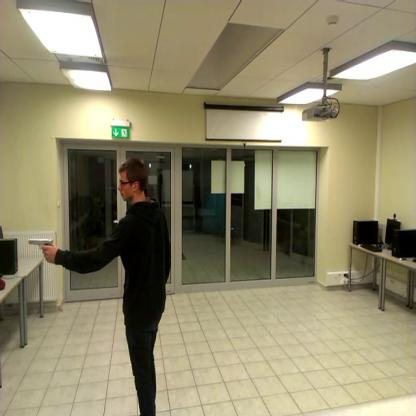Pistol: (26, 229, 66, 263)
